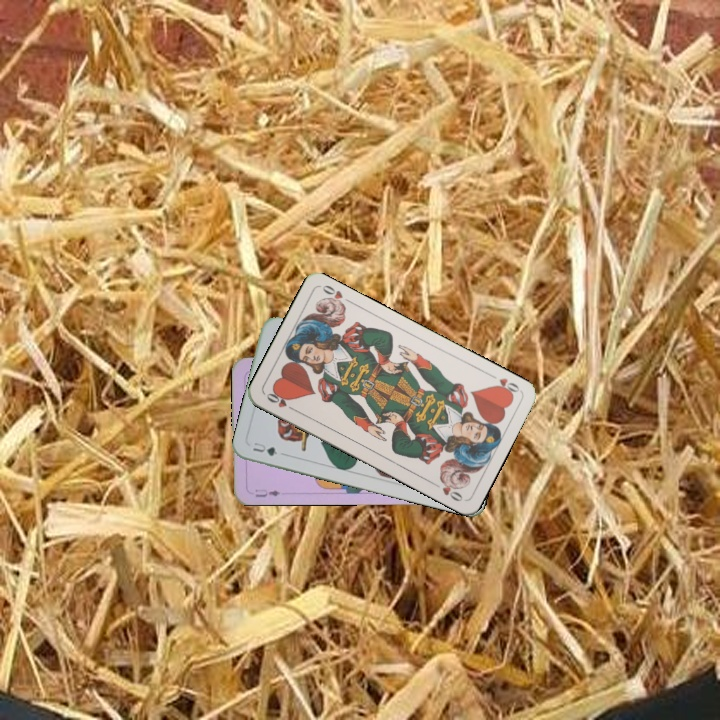EU: (251, 485, 283, 499)
GU: (249, 438, 280, 459)
HO: (485, 370, 523, 399), (262, 388, 299, 414)
